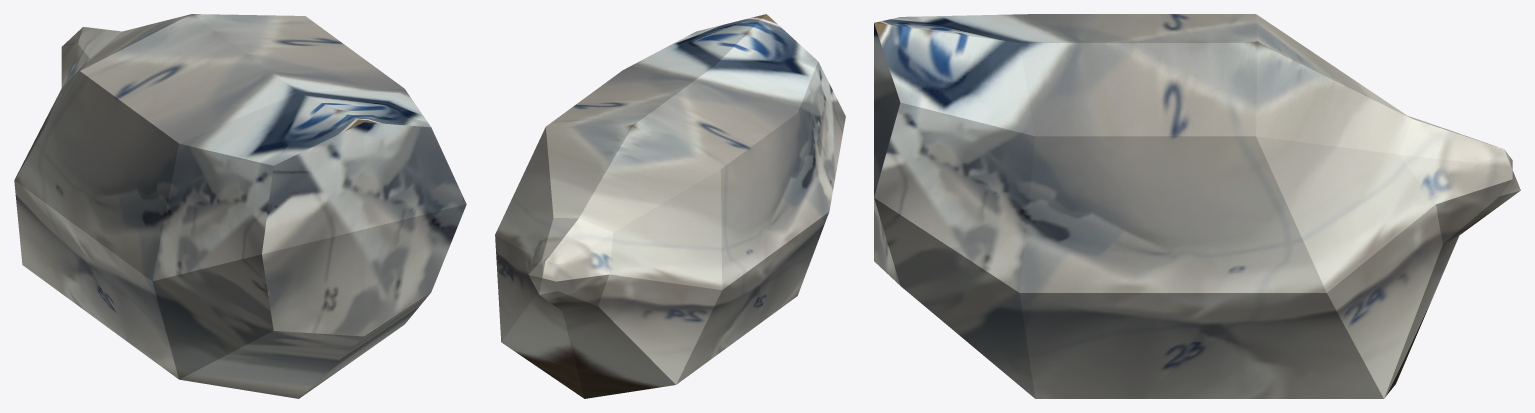
File: trash.fbx
3 views of the same model, side by side, from view 1: azimuth 30°, elevation 25°; view 2: azimuth 150°, elevation 25°; view 3: azimuth 270°, elevation 25° (orthographic). The views are drawn at different scales.
Parts seen in each view (by area): view 1: Cube.011; view 2: Cube.011; view 3: Cube.011.
Boxes of the visible parts, <box> form: Cube.011: <box>14,14,466,398</box>; Cube.011: <box>495,14,845,398</box>; Cube.011: <box>874,14,1520,398</box>.
Bounding box in the file's own units: 40.96 × 70.41 × 43.37.
